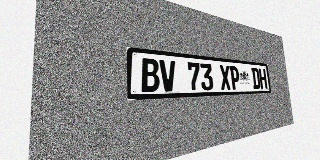3: (200, 63, 213, 90)
7: (186, 62, 201, 91)
B: (140, 58, 160, 92)
D: (251, 68, 261, 89)
H: (258, 68, 267, 89)
P: (229, 66, 240, 90)
V: (159, 59, 177, 92)
X: (219, 65, 231, 90)
